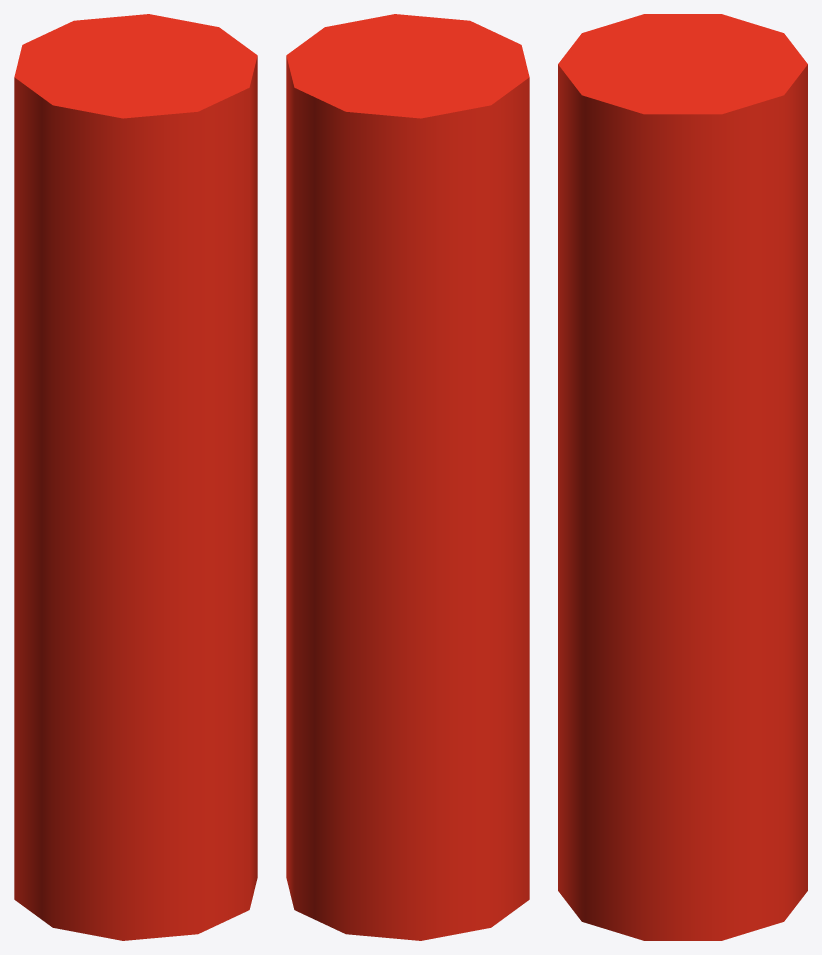
File: column_doric_weathered_collision.glb
3 renders of one model, left to right at view 1: azimuth 30°, elevation 25°; view 2: azimuth 150°, elevation 25°; view 3: azimuth 270°, elevation 25°, orthographic.
Visible parts, largest first — view 1: column_doric_weathered-col; view 2: column_doric_weathered-col; view 3: column_doric_weathered-col.
Part boxes in pixels (box(x1,y1,x2,y2)): column_doric_weathered-col: box(14, 14, 257, 940); column_doric_weathered-col: box(286, 14, 529, 940); column_doric_weathered-col: box(558, 14, 807, 940).
Size of the model in its own units: 1.03 by 3.94 by 1.08.
